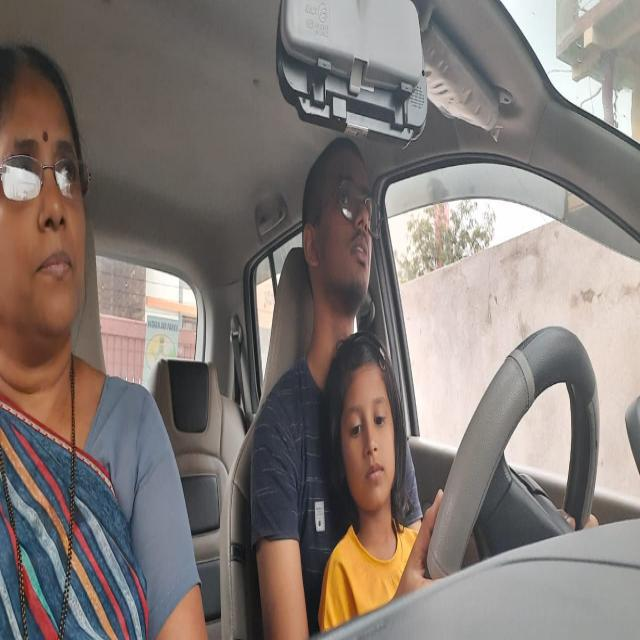child: (327, 333, 405, 527)
person: (2, 37, 90, 383), (302, 135, 379, 321)
